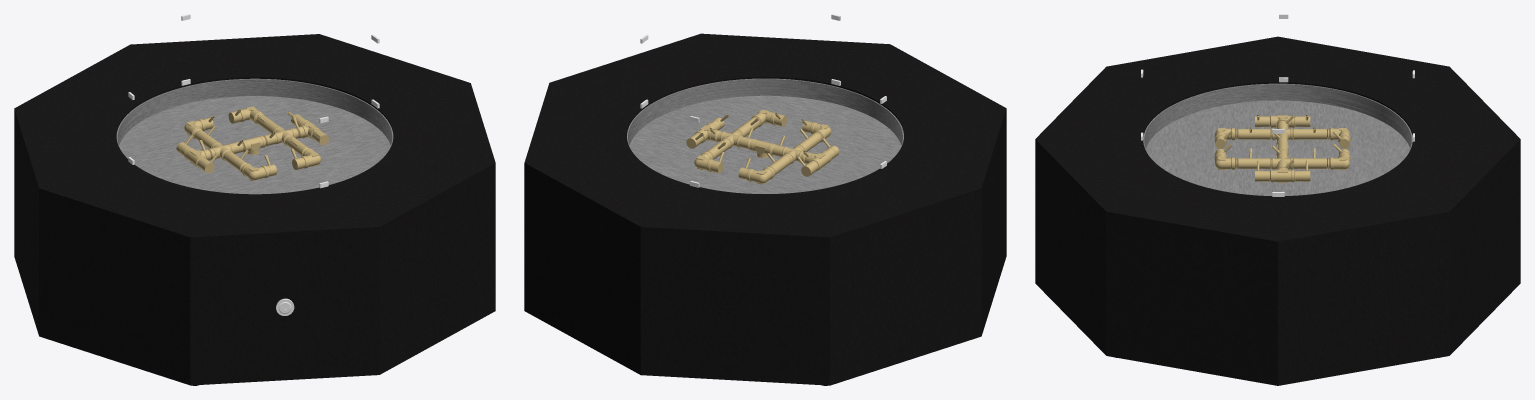
The model's file is octagono3d2.glb.
3 renders of one model, left to right at view 1: azimuth 30°, elevation 25°; view 2: azimuth 150°, elevation 25°; view 3: azimuth 270°, elevation 25°, orthographic. The views are drawn at different scales.
Visible parts, largest first — view 1: Material2 (×5); view 2: Material2 (×5); view 3: Material2 (×4).
Boxes of the visible parts, <box> form: Material2 (×5): <box>14,14,495,385</box>; Material2 (×5): <box>524,14,1006,385</box>; Material2 (×4): <box>1035,36,1520,385</box>.
Size of what is drawn, in the model's own units: 1.35 by 0.6639 by 1.35.
Materials: 5 (2 with a texture image).
